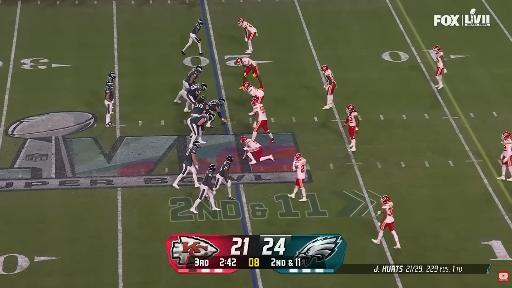Helmet: (207, 111, 215, 120), (381, 196, 390, 204), (347, 104, 354, 114), (502, 132, 510, 140), (240, 135, 248, 143), (208, 164, 215, 173), (433, 46, 441, 53), (251, 98, 258, 106), (197, 96, 205, 103), (195, 65, 202, 73), (108, 72, 116, 79), (226, 155, 233, 163), (243, 82, 250, 90), (193, 140, 200, 148), (197, 18, 204, 25), (218, 98, 225, 105), (200, 83, 207, 90), (106, 81, 113, 88), (235, 58, 242, 65), (295, 153, 302, 160), (321, 65, 328, 72), (238, 18, 243, 25)
Jersey: (184, 146, 197, 167), (186, 84, 201, 101), (294, 159, 306, 178), (383, 202, 394, 222), (254, 104, 267, 120), (185, 69, 198, 85), (245, 139, 261, 151), (247, 86, 264, 97), (192, 102, 207, 114), (219, 162, 230, 178), (202, 171, 213, 187), (502, 139, 511, 158), (191, 115, 207, 125), (208, 99, 221, 111), (348, 111, 358, 126), (242, 22, 256, 32), (324, 70, 334, 84), (105, 87, 114, 101), (436, 52, 444, 67), (242, 58, 256, 66), (192, 24, 201, 35), (106, 76, 115, 83)
Player: (190, 164, 220, 213), (372, 196, 400, 248), (173, 141, 200, 188), (174, 65, 202, 102), (252, 99, 275, 142), (240, 136, 274, 164), (213, 156, 235, 199), (187, 112, 215, 145), (235, 58, 263, 89), (181, 19, 204, 55), (289, 153, 306, 201), (179, 84, 207, 112), (342, 105, 359, 151), (238, 18, 257, 53), (321, 65, 336, 109), (498, 132, 511, 181), (434, 46, 446, 89), (208, 98, 226, 124), (104, 81, 114, 127), (243, 82, 264, 103), (191, 95, 209, 117), (191, 96, 208, 116), (106, 72, 116, 83)
